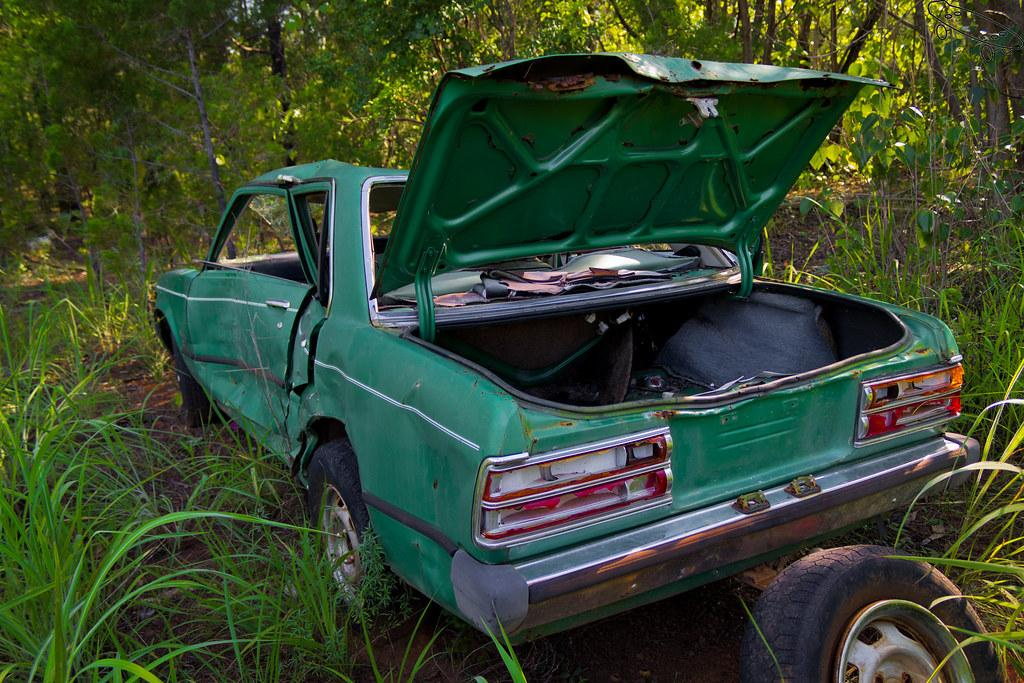car: (153, 52, 1001, 682)
